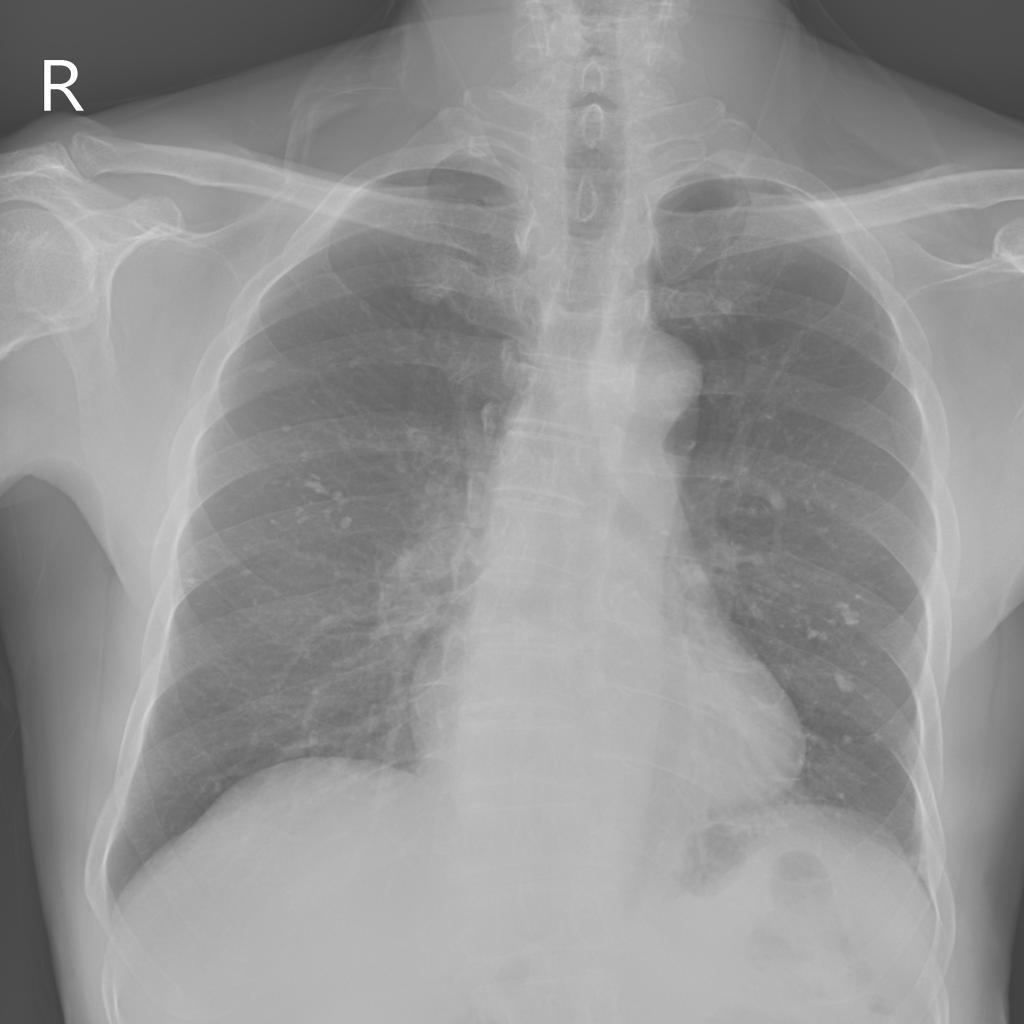Nodule: (254, 359, 277, 376)
